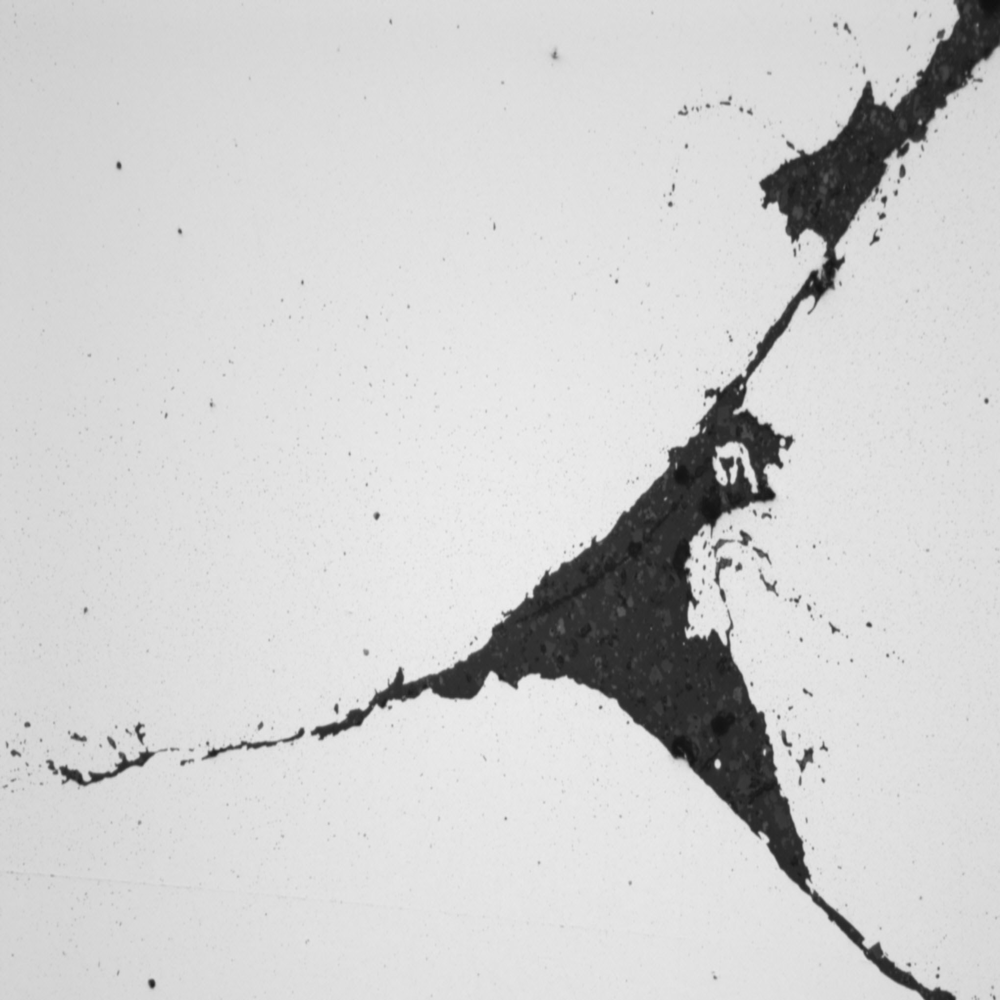crack: (10, 20, 1000, 984)
